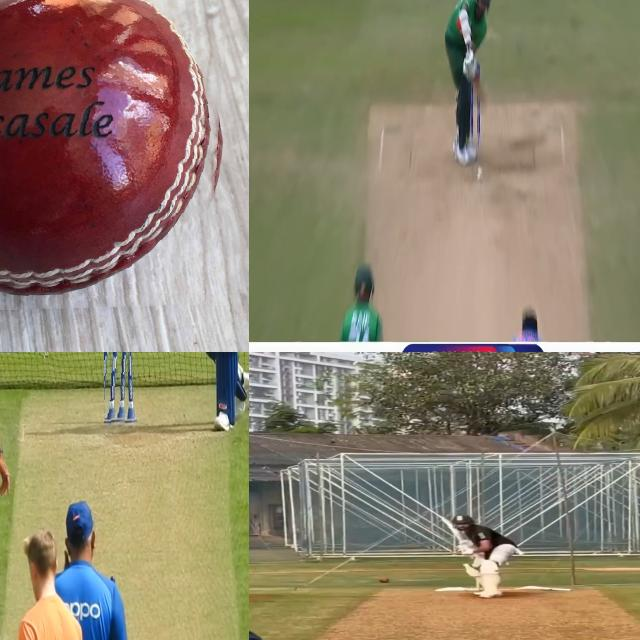Cricket ball: (0, 0, 230, 314), (476, 167, 485, 181), (378, 577, 391, 584)
Stumps: (104, 352, 134, 428)
